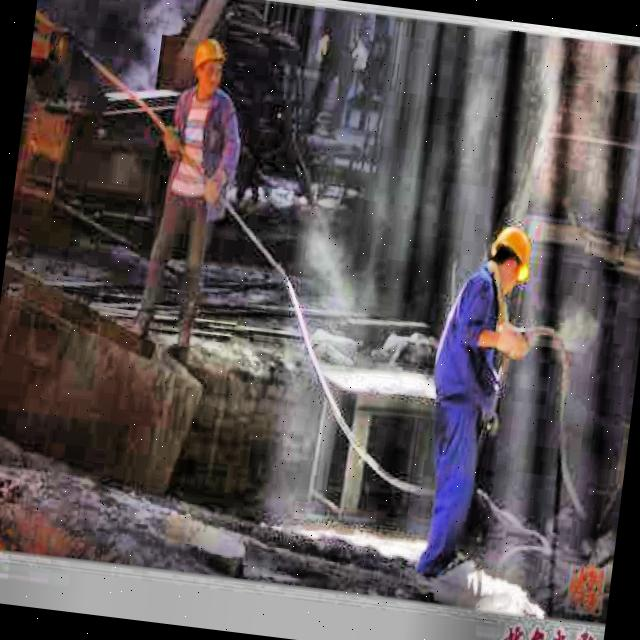helmet: (481, 219, 537, 297), (187, 37, 228, 98)
